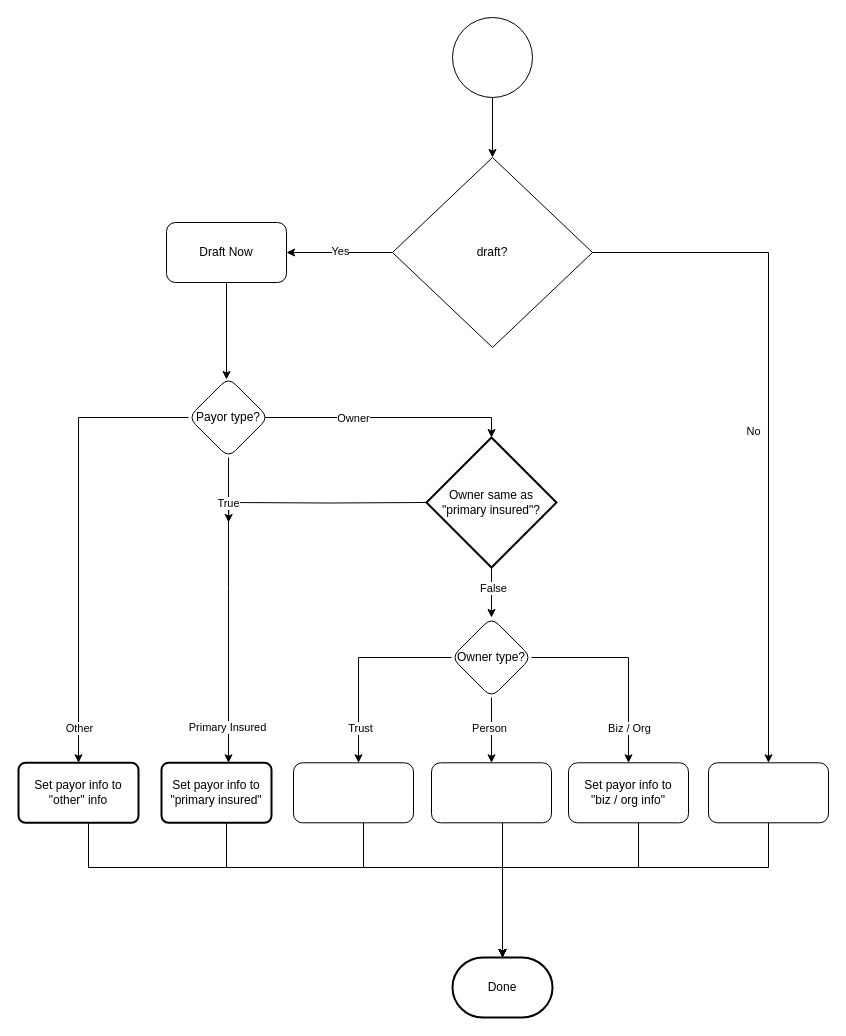
Image size: 846x1036. Some labels were removed from this diagram. The shapes that lost their labels are listed below. From the top down, each one's centre as x and y in pixels, then its label:
(492,57): Start
(353,792): Set payor info to "trust info"
(491,792): Set Payor Info to "person info"
(768,792): Draft Later
